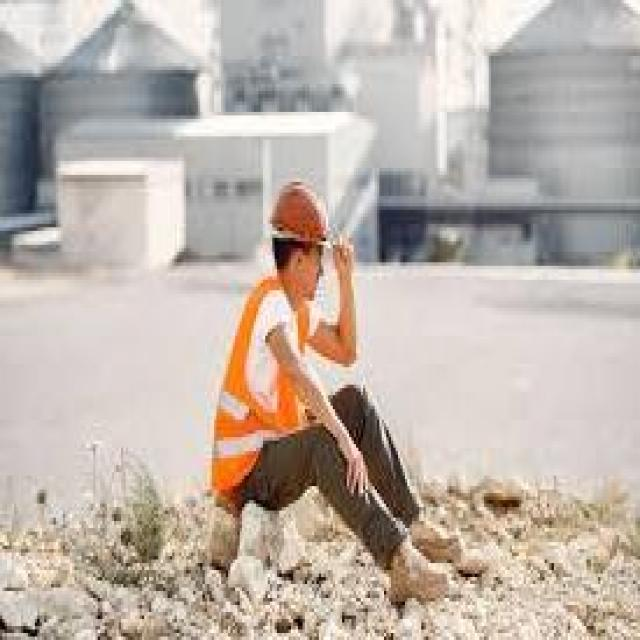Reflective-Jacket: (203, 273, 321, 500)
Safety-Helmet: (253, 168, 339, 262)
